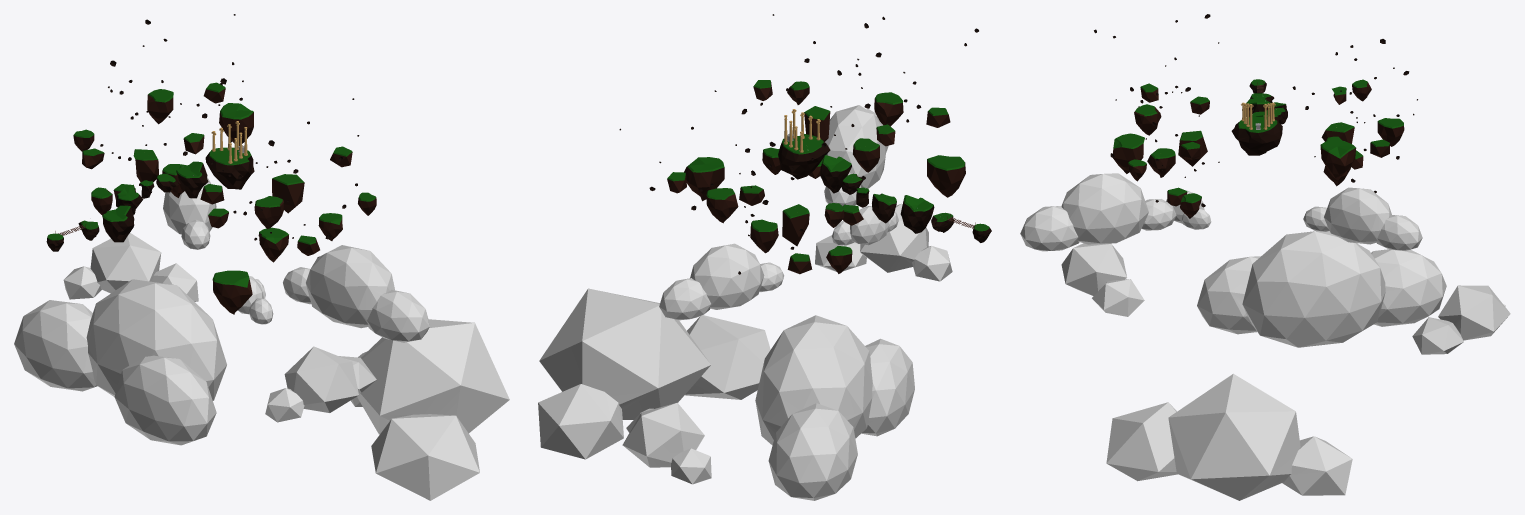
File: stage_5_03.FBX
3 views of the same model, side by side, from view 1: azimuth 30°, elevation 25°; view 2: azimuth 150°, elevation 25°; view 3: azimuth 270°, elevation 25° (orthographic). The views are drawn at different scales.
Visible parts, largest first — view 1: nuages, ilot_decor, ilot_chemin, debris, colonne; view 2: nuages, ilot_decor, ilot_chemin, debris, colonne; view 3: nuages, ilot_decor, ilot_chemin, debris.
Boxes of the visible parts, bbox=[...] form: nuages: bbox=[14, 177, 509, 500]; ilot_decor: bbox=[73, 82, 376, 314]; ilot_chemin: bbox=[46, 147, 254, 251]; debris: bbox=[100, 14, 359, 257]; colonne: bbox=[211, 121, 247, 163]; nuages: bbox=[538, 105, 952, 500]; ilot_decor: bbox=[667, 80, 965, 274]; ilot_chemin: bbox=[778, 134, 991, 242]; debris: bbox=[619, 14, 978, 274]; colonne: bbox=[783, 109, 820, 152]; nuages: bbox=[1020, 173, 1510, 500]; ilot_decor: bbox=[1113, 79, 1404, 218]; ilot_chemin: bbox=[1231, 79, 1287, 155]; debris: bbox=[1094, 14, 1417, 207].
Bounding box in the file's own units: 7829 × 7335 × 8526.
13 materials, 3 textured.
